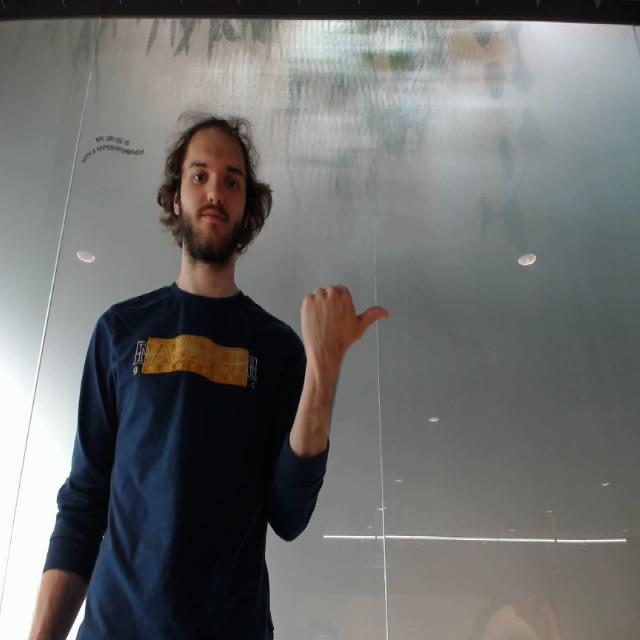right: (296, 284, 396, 365)
